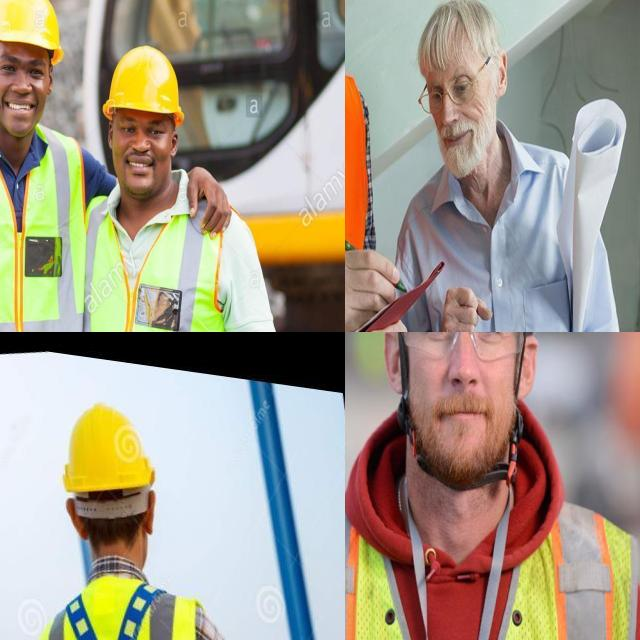No_Ear-Protection: (493, 45, 511, 100), (168, 129, 180, 159), (46, 59, 55, 98), (106, 118, 115, 150)
No_Glasses: (105, 111, 179, 143), (0, 47, 57, 88)
face_nomask: (396, 332, 534, 475), (418, 68, 498, 179), (105, 108, 172, 196), (0, 45, 44, 137)
glasses: (391, 332, 531, 361), (416, 74, 481, 122)
hand_noglove: (345, 227, 406, 332), (188, 154, 236, 238), (439, 274, 485, 332)
head_helmet: (102, 40, 183, 119), (0, 0, 68, 55)
head_nohelmet: (420, 1, 502, 61)
person: (345, 332, 640, 640), (388, 0, 628, 332), (74, 44, 269, 332), (0, 0, 86, 332)
vest: (345, 487, 634, 640), (71, 184, 229, 332), (0, 122, 76, 332)
